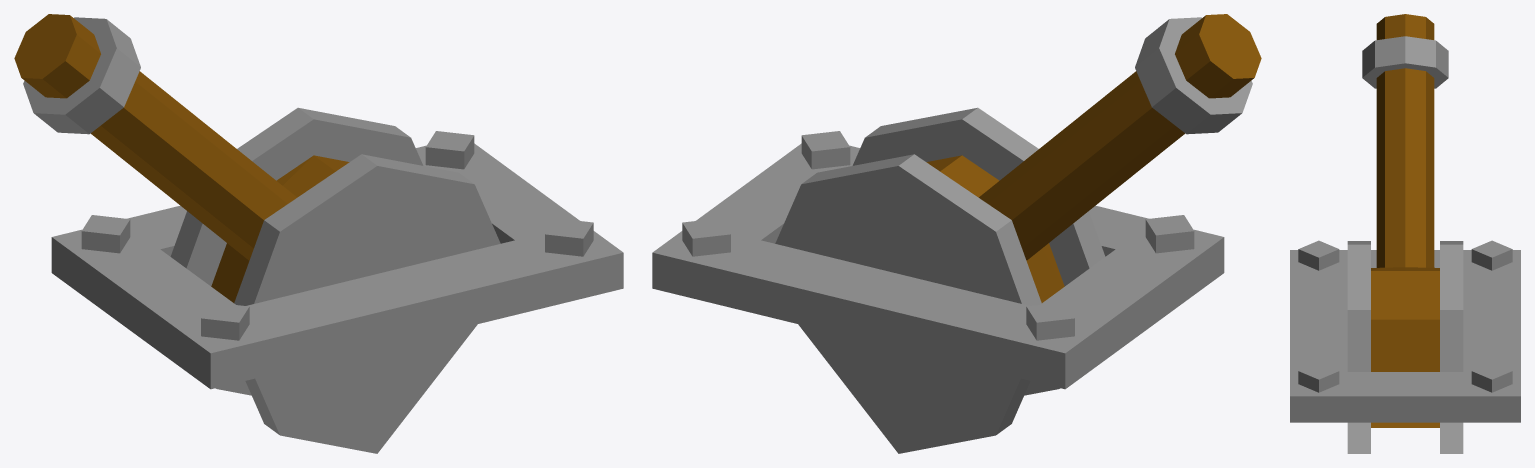
Rendered from Alavanca.fbx.
The picture shows the model from 3 angles, left to right: view 1: azimuth 30°, elevation 25°; view 2: azimuth 150°, elevation 25°; view 3: azimuth 270°, elevation 25°; orthographic projection. The views are drawn at different scales.
Visible parts, largest first — view 1: Lever, Base; view 2: Lever, Base; view 3: Lever, Base.
Boxes of the visible parts, x1,y1,x2,y2 form: Lever: [14, 14, 500, 453]; Base: [51, 131, 623, 389]; Lever: [775, 14, 1261, 453]; Base: [652, 131, 1224, 389]; Lever: [1347, 14, 1463, 453]; Base: [1290, 240, 1520, 422].
Size of the model in its own units: 114 by 98.94 by 60.
